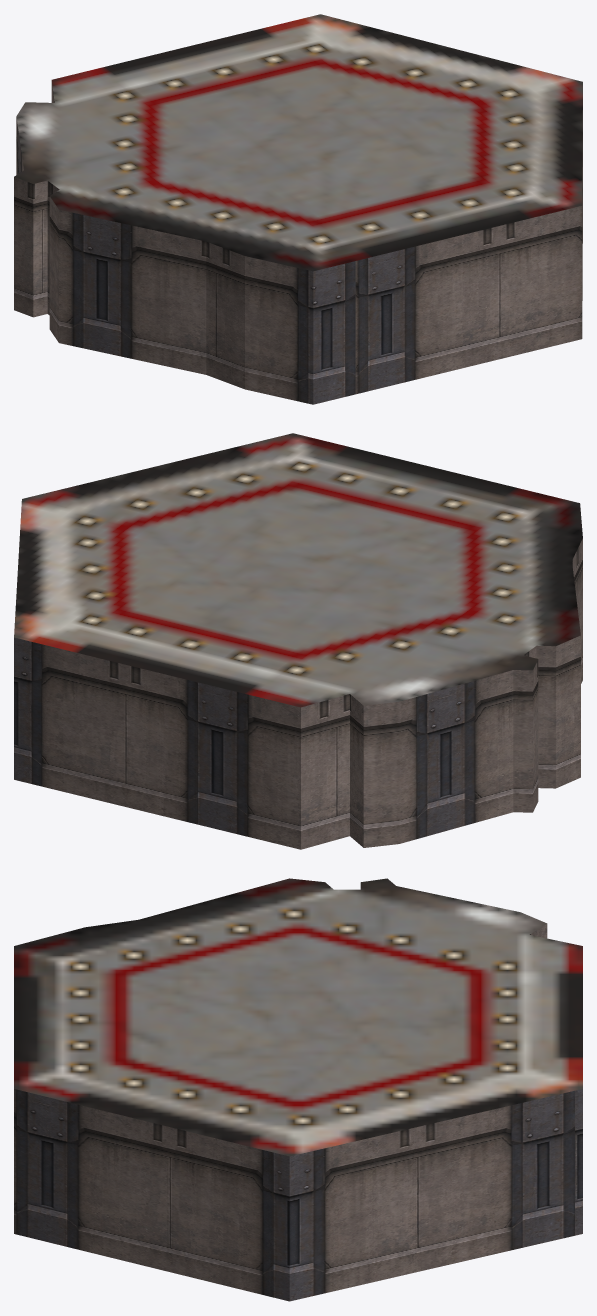
File: bsealed_heavy_32.glb
3 renders of one model, top to bottom at view 1: azimuth 30°, elevation 25°; view 2: azimuth 150°, elevation 25°; view 3: azimuth 270°, elevation 25°, orthographic. The views are drawn at different scales.
Visible parts, largest first — view 1: buildings/saxarba/bsealed_heavy/bsealed_heavy_32; view 2: buildings/saxarba/bsealed_heavy/bsealed_heavy_32; view 3: buildings/saxarba/bsealed_heavy/bsealed_heavy_32.
Part boxes in pixels (<box>): buildings/saxarba/bsealed_heavy/bsealed_heavy_32: <box>14,14,582,404</box>; buildings/saxarba/bsealed_heavy/bsealed_heavy_32: <box>14,433,582,849</box>; buildings/saxarba/bsealed_heavy/bsealed_heavy_32: <box>14,878,582,1301</box>.
Size of the model in its own units: 74 by 18 by 64.
